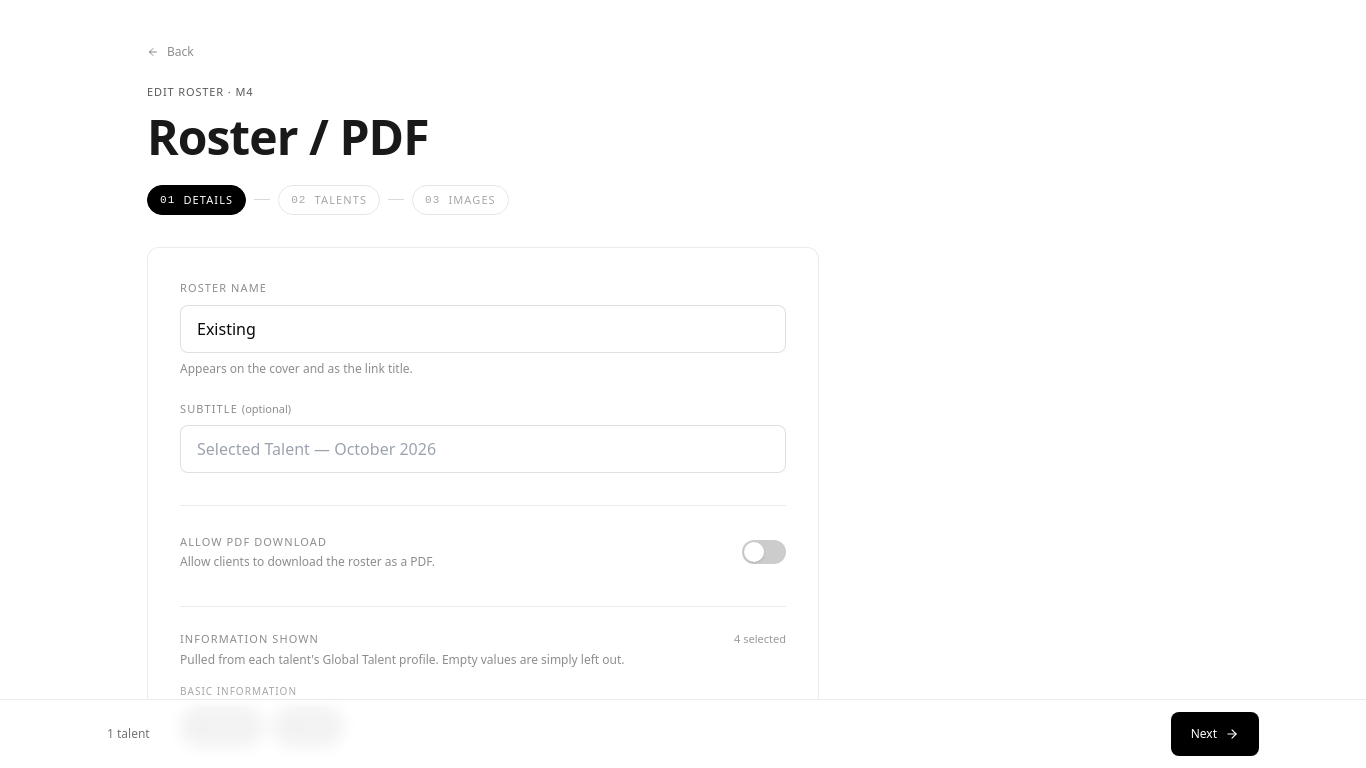
Test case: RosterBuilder — Allow PDF Download › reopening a roster saved OFF shows OFF, and saving without touching it keeps it OFF
The image size is (1366, 768).
expect the element with test id "roster-pdf-setting" is shown: met, box [180,505,786,574]
Click the button with test id "roster-next" at (1215, 734), box [1171,712,1259,756]
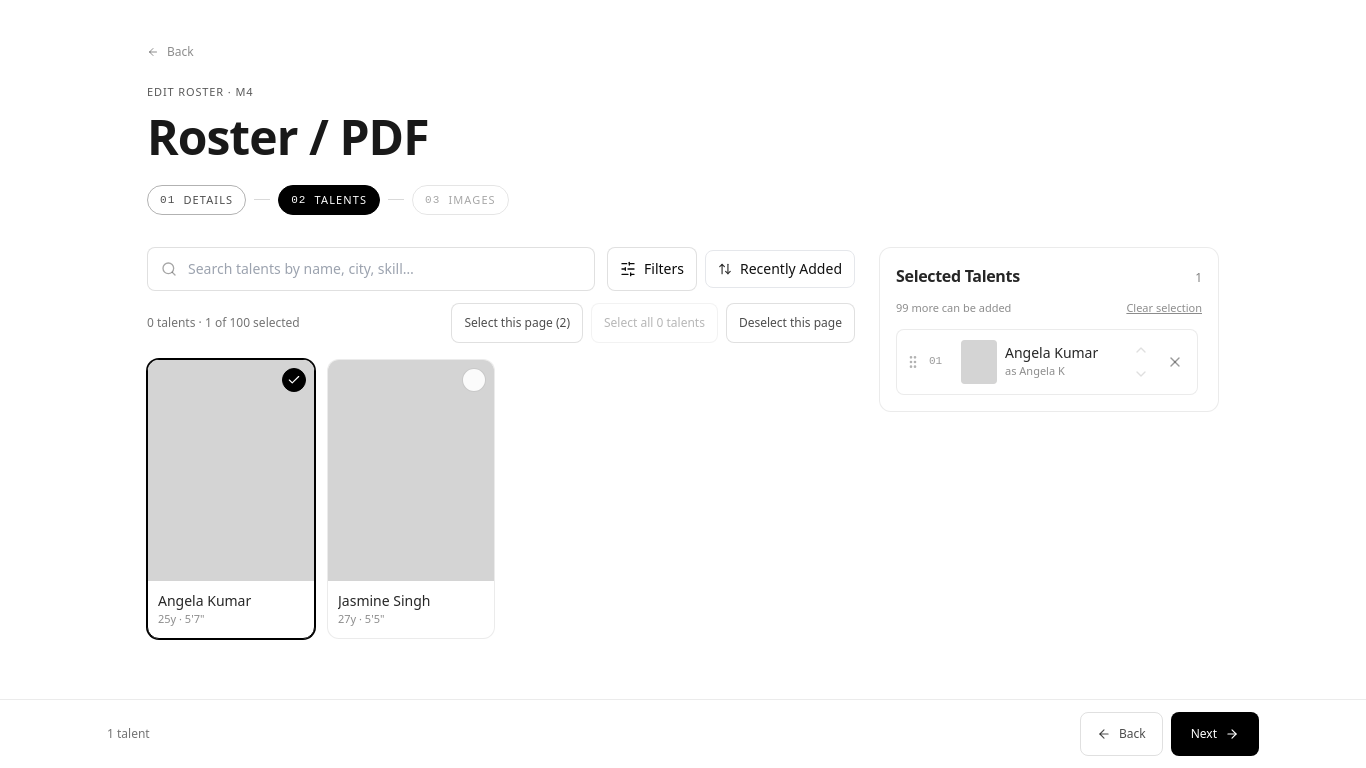
Click the button with test id "roster-next" at (1215, 734), box [1171,712,1259,756]
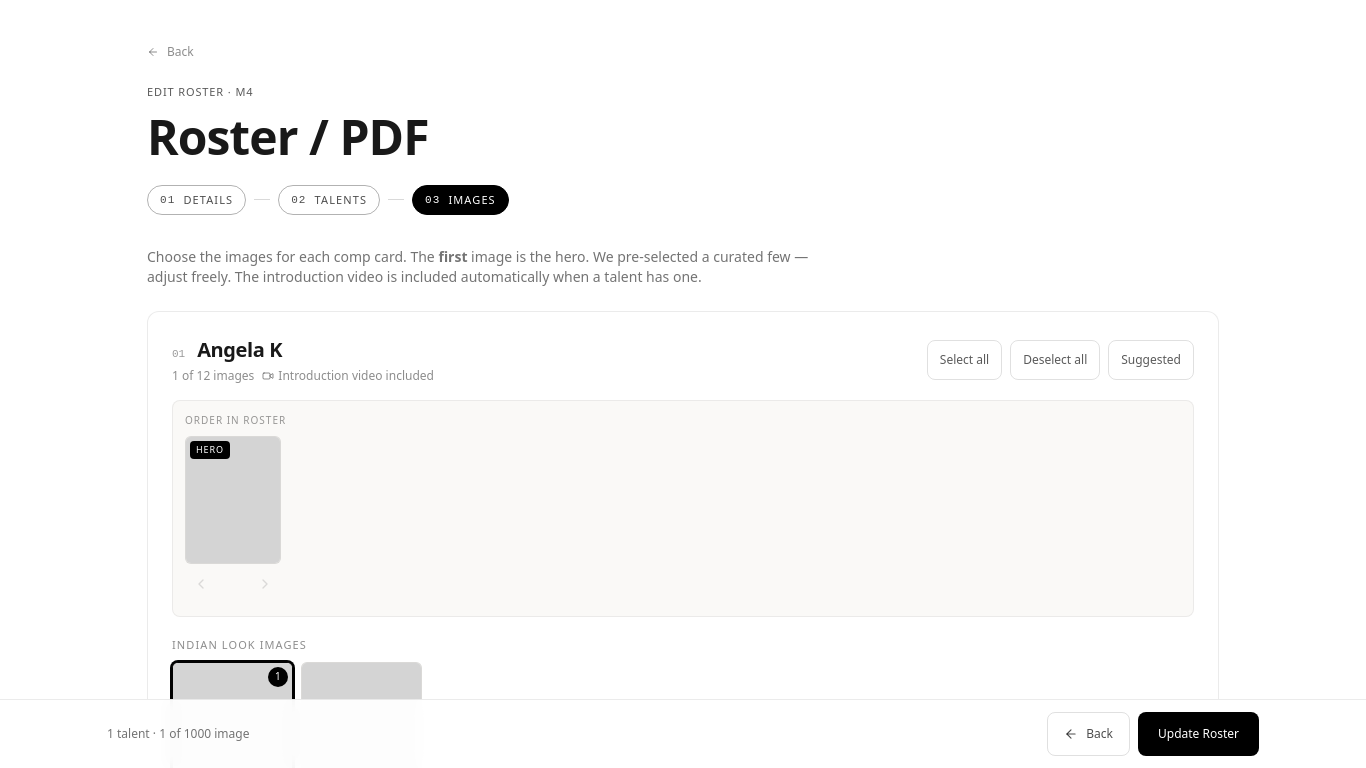
Click the button with test id "roster-save" at (1198, 734), box [1138,712,1259,756]
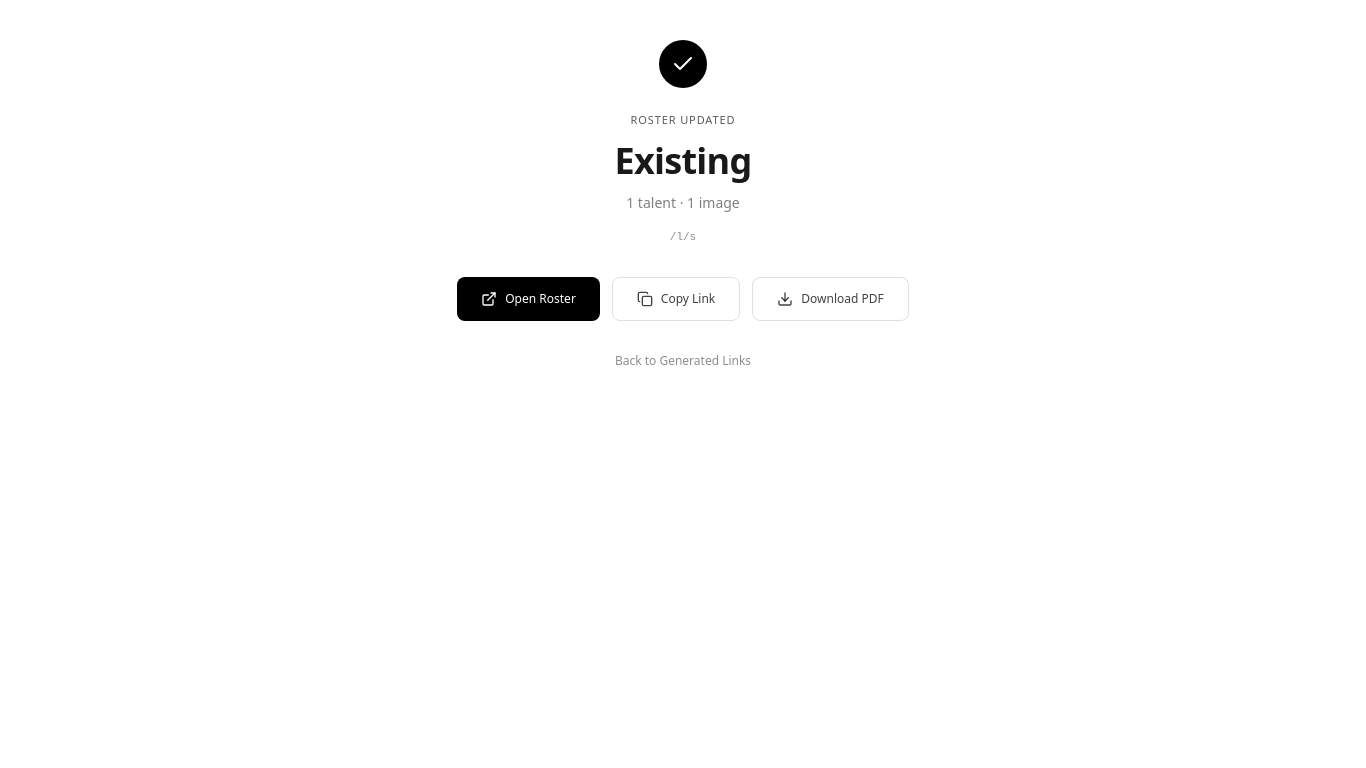
expect the element with test id "roster-created" is shown: met, box [457,40,909,369]
